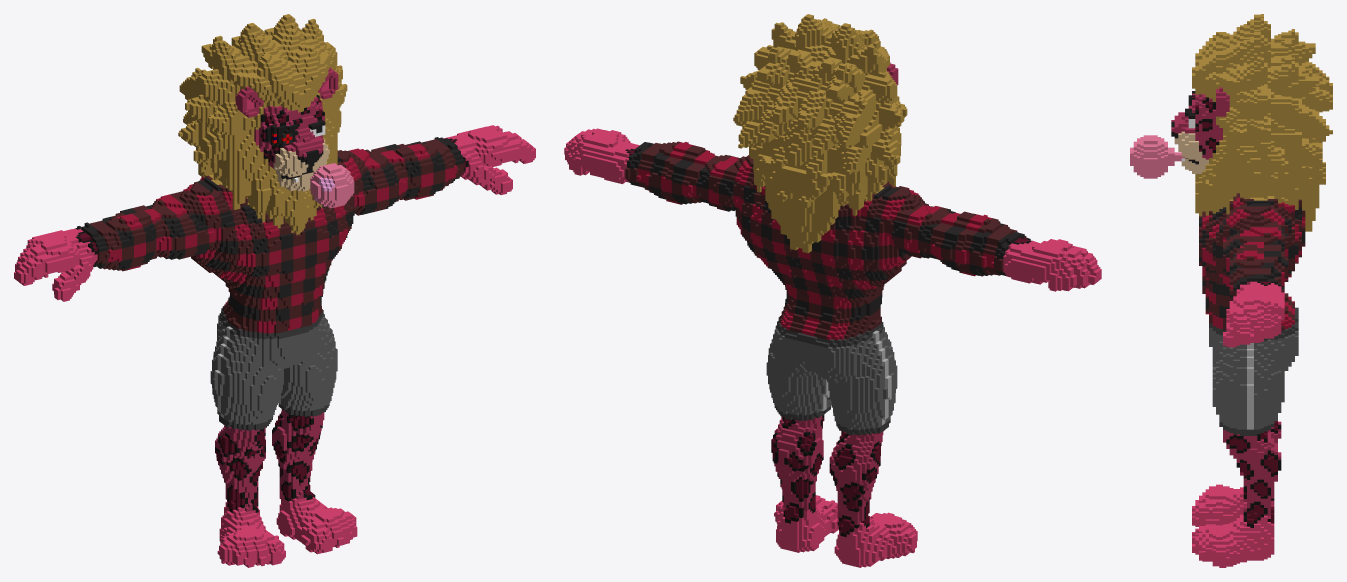
3 views of the same model, side by side, from view 1: azimuth 30°, elevation 25°; view 2: azimuth 150°, elevation 25°; view 3: azimuth 270°, elevation 25° (orthographic). The views are drawn at different scales.
Parts seen in each view (by area): view 1: bubble_gum; view 2: bubble_gum; view 3: bubble_gum.
Boxes of the visible parts, bbox=[...] form: bubble_gum: bbox=[14, 14, 535, 567]; bubble_gum: bbox=[564, 14, 1101, 567]; bubble_gum: bbox=[1130, 14, 1332, 567].
Size of the model in its own units: 17.2 by 16.5 by 5.9.
Materials: 5 (5 with a texture image).
